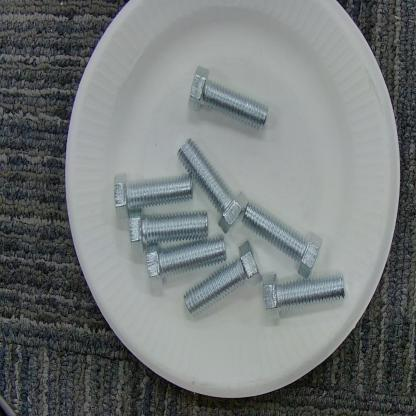FOD: (112, 134, 350, 314), (187, 59, 279, 133)
